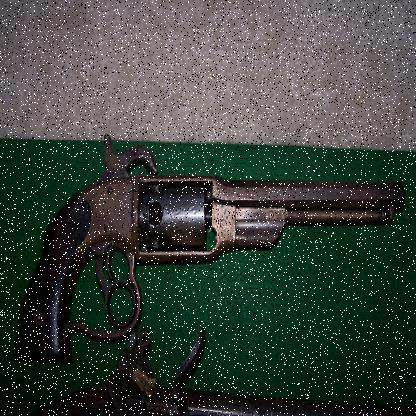pistol: (11, 127, 405, 366)
